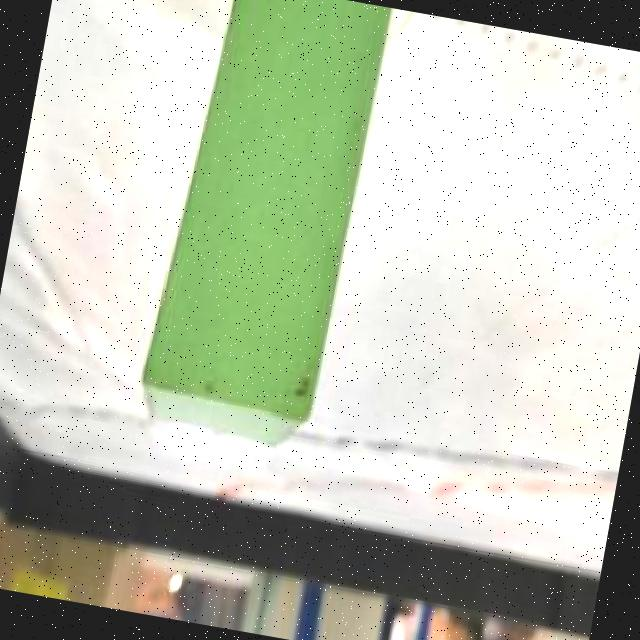greenbox: (125, 0, 388, 460)
